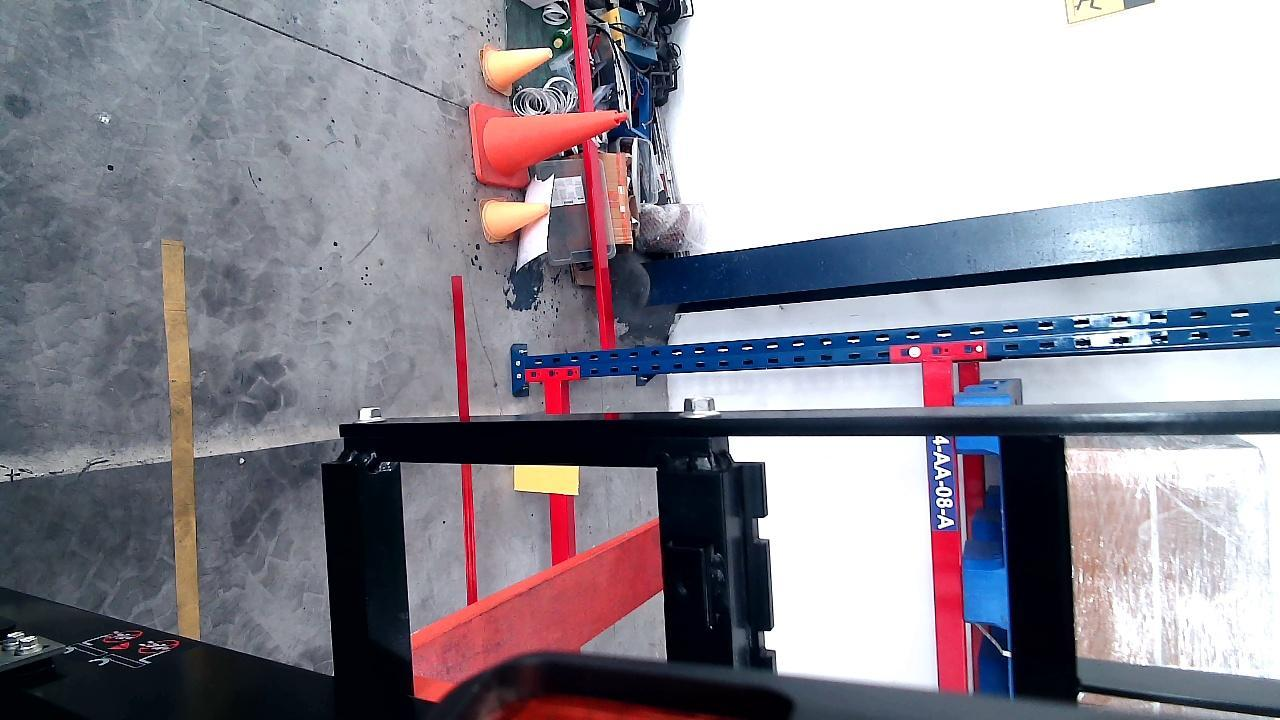red_line: (447, 272, 479, 611)
yellow_line: (168, 235, 199, 640)
